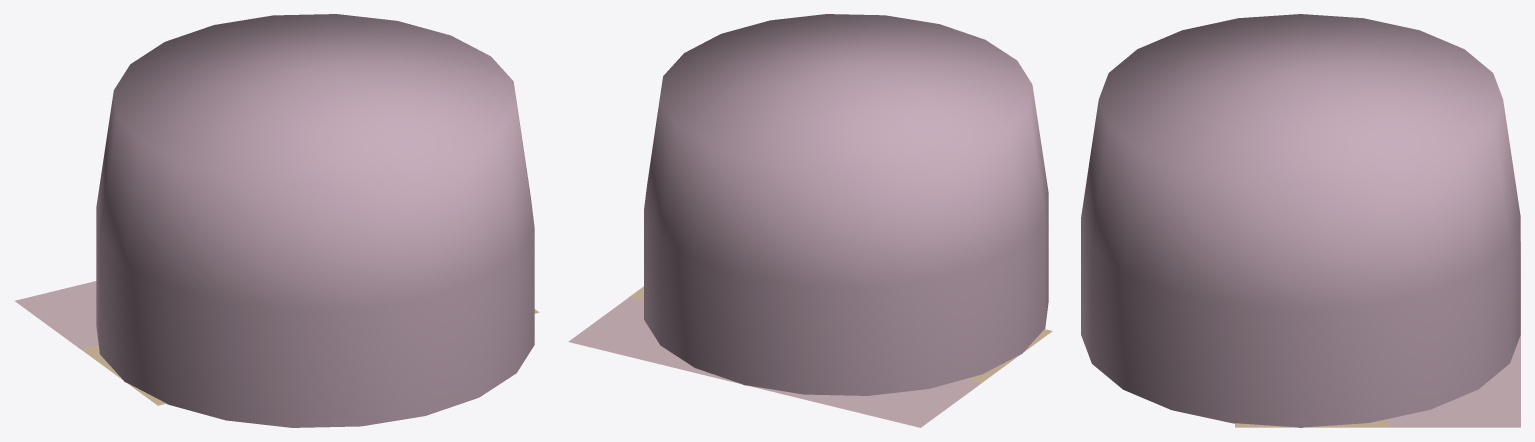
Rendered from Tenkaichi_Budokai_Arena.dae.
The picture shows the model from 3 angles, left to right: view 1: azimuth 30°, elevation 25°; view 2: azimuth 150°, elevation 25°; view 3: azimuth 270°, elevation 25°; orthographic projection. The views are drawn at different scales.
Visible parts, largest first — view 1: Budokai_Tenkaichi; view 2: Budokai_Tenkaichi; view 3: Budokai_Tenkaichi.
Boxes of the visible parts, box(x1,y1,x2,y2) form: Budokai_Tenkaichi: box(15, 14, 539, 427); Budokai_Tenkaichi: box(568, 14, 1052, 427); Budokai_Tenkaichi: box(1081, 14, 1520, 427).
Size of the model in its own units: 500 by 500 by 328.
